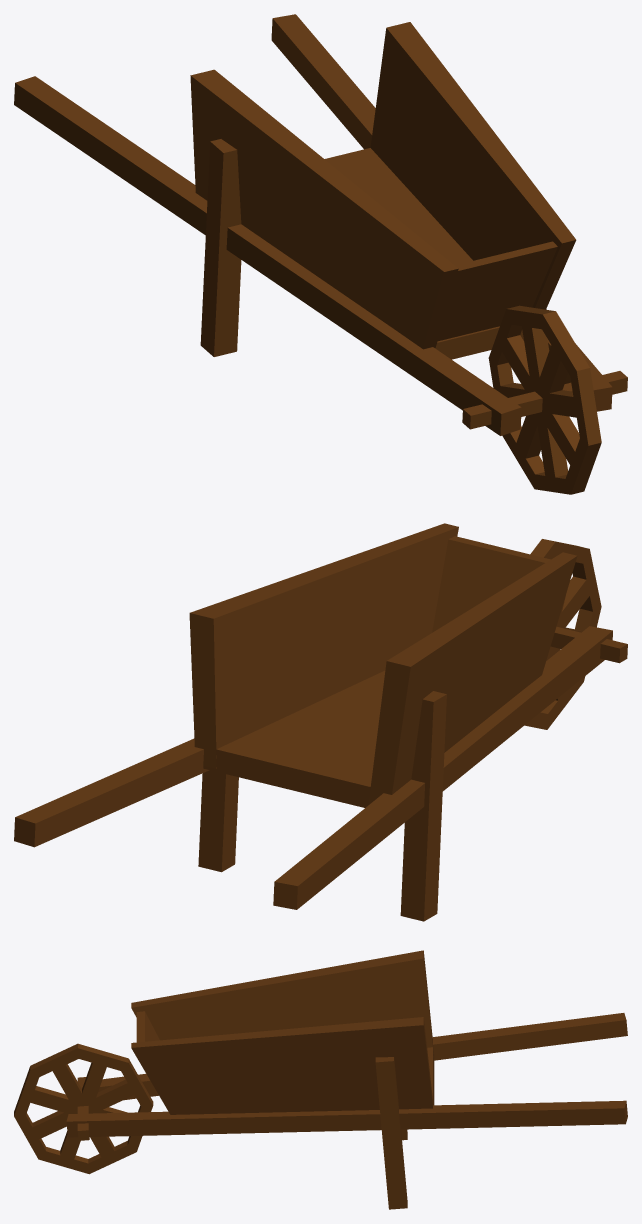
Rendered from Wheelbarrow.fbx.
3 renders of one model, top to bottom at view 1: azimuth 30°, elevation 25°; view 2: azimuth 150°, elevation 25°; view 3: azimuth 270°, elevation 25°, orthographic. The views are drawn at different scales.
Parts seen in each view (by area): view 1: wheelbarrow; view 2: wheelbarrow; view 3: wheelbarrow.
Boxes of the visible parts, x1,y1,x2,y2 form: wheelbarrow: (14, 14, 627, 494); wheelbarrow: (14, 523, 627, 921); wheelbarrow: (14, 950, 627, 1209).
Size of the model in its own units: 753 by 249 by 278.
